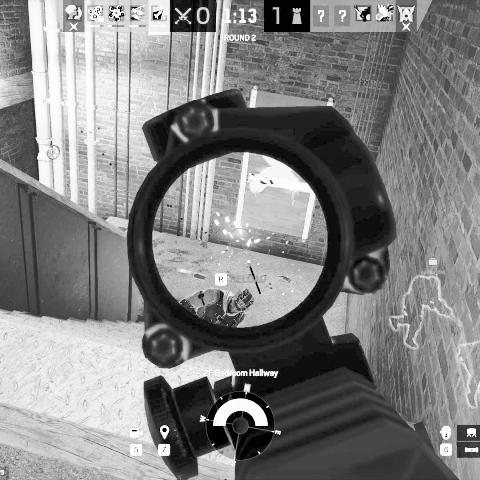Character: (178, 286, 255, 329)
Friend_label: (420, 257, 446, 275)
Head: (226, 287, 254, 315)
